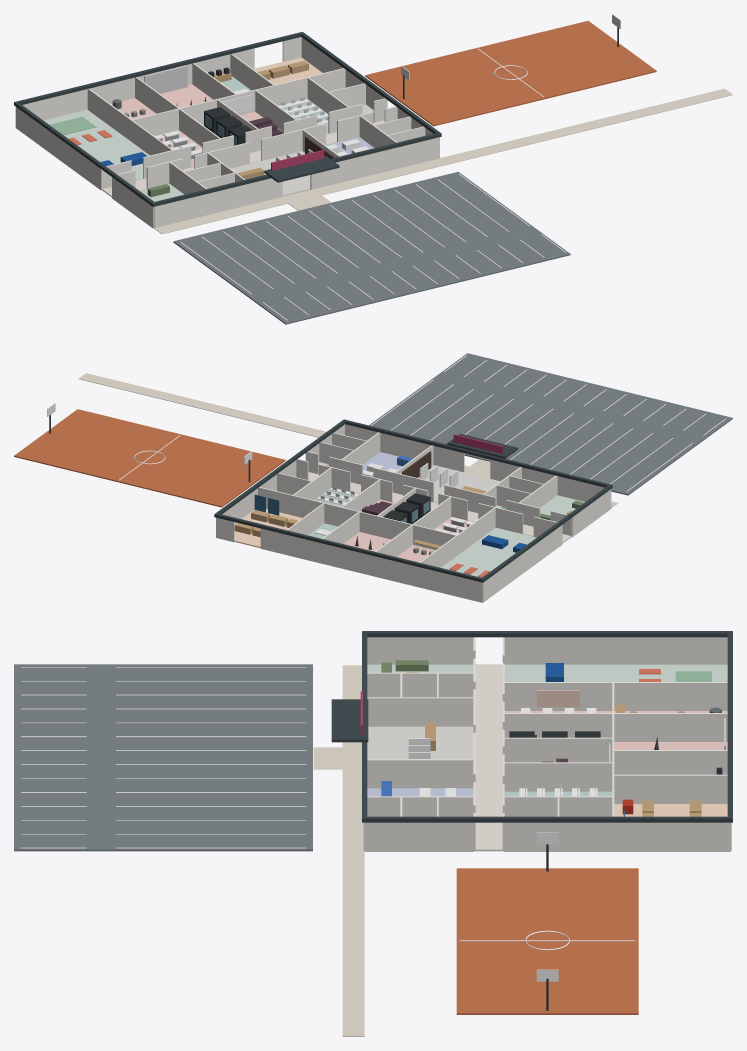
Rendered from azalea-yard-concept.glb.
The picture shows the model from 3 angles, top to bottom: view 1: azimuth 30°, elevation 25°; view 2: azimuth 150°, elevation 25°; view 3: azimuth 270°, elevation 25°; orthographic projection. The views are drawn at different scales.
Parts seen in each view (by area): view 1: object 39, object 37, fitness, object 1, AzaleaYard_Concept, lounge, lobby, navigate, art, object 23, parking, counseling (+17 smaller); view 2: object 39, object 37, fitness, AzaleaYard_Concept, lobby, lounge, film, art, object 1, object 23, ceramics, navigate (+17 smaller); view 3: object 39, object 37, fitness, object 23, object 1, AzaleaYard_Concept, lounge, art, parking, ceramics, shop, lobby (+18 smaller).
Part boxes in pixels (box(x1,y1,x2,y2)): object 39: box(173, 171, 570, 324); object 37: box(365, 20, 656, 126); fitness: box(15, 88, 173, 190); object 1: box(154, 88, 732, 234); AzaleaYard_Concept: box(14, 32, 441, 206); lounge: box(112, 161, 211, 228); lobby: box(208, 129, 344, 204); navigate: box(303, 115, 401, 181); art: box(132, 108, 220, 169); object 23: box(43, 109, 384, 197); parking: box(180, 174, 565, 320); counseling: box(169, 152, 249, 214); object 39: box(369, 353, 732, 495); object 37: box(14, 409, 285, 507); fitness: box(415, 507, 562, 602); AzaleaYard_Concept: box(214, 419, 612, 582); lobby: box(394, 445, 519, 512); lounge: box(518, 475, 611, 536); film: box(318, 511, 412, 575); art: box(412, 496, 495, 554); object 1: box(79, 373, 617, 507); object 23: box(308, 472, 571, 577); ceramics: box(371, 524, 457, 586); navigate: box(341, 432, 430, 492); object 39: box(14, 664, 312, 851); object 37: box(456, 868, 638, 1014); fitness: box(502, 637, 727, 710); object 23: box(475, 664, 727, 851); object 1: box(313, 665, 364, 1036); AzaleaYard_Concept: box(362, 631, 732, 822); lounge: box(367, 637, 475, 697); art: box(502, 682, 614, 737); parking: box(21, 667, 306, 848); ceramics: box(613, 682, 727, 741); shop: box(612, 775, 730, 851); lobby: box(367, 698, 475, 788).
Size of the model in its own units: 241 by 15.21 by 197.
